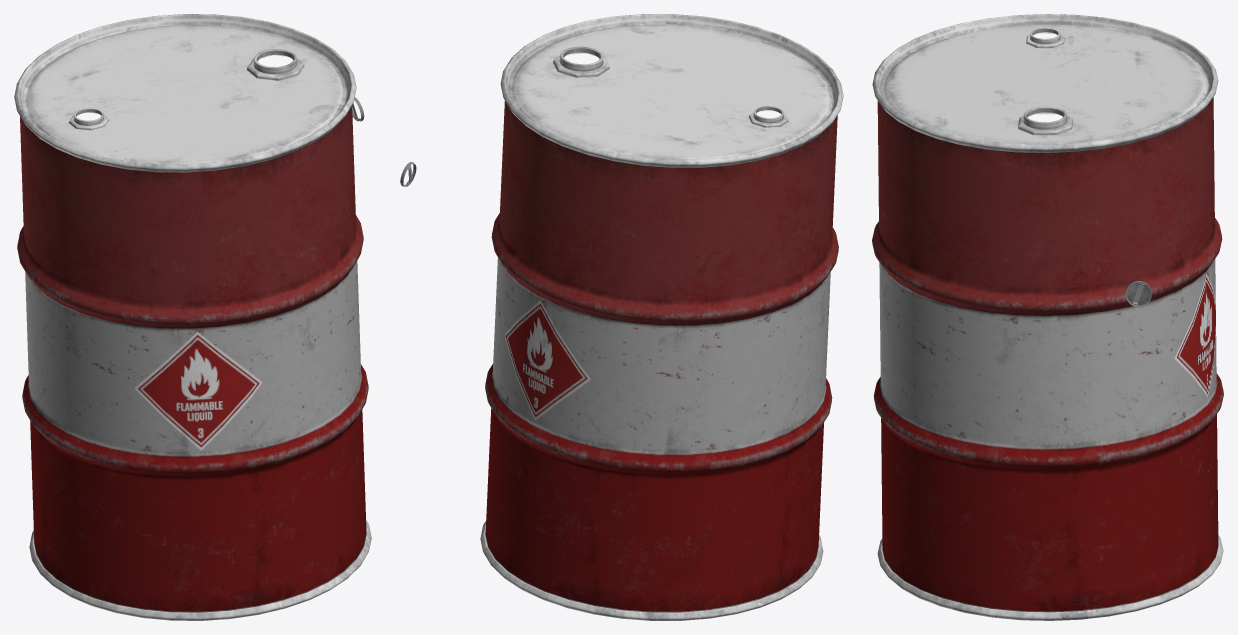
File: tonel.glb
3 renders of one model, left to right at view 1: azimuth 30°, elevation 25°; view 2: azimuth 150°, elevation 25°; view 3: azimuth 270°, elevation 25°, orthographic.
Parts seen in each view (by area): view 1: Barrel_low.001; view 2: Barrel_low.001; view 3: Barrel_low.001.
Boxes of the visible parts, box(x1,y1,x2,y2) form: Barrel_low.001: box(14, 14, 371, 620); Barrel_low.001: box(480, 14, 843, 620); Barrel_low.001: box(872, 14, 1223, 620).
Bounding box in the file's own units: 59.33 × 73.72 × 48.58.
1 material, 1 textured.
